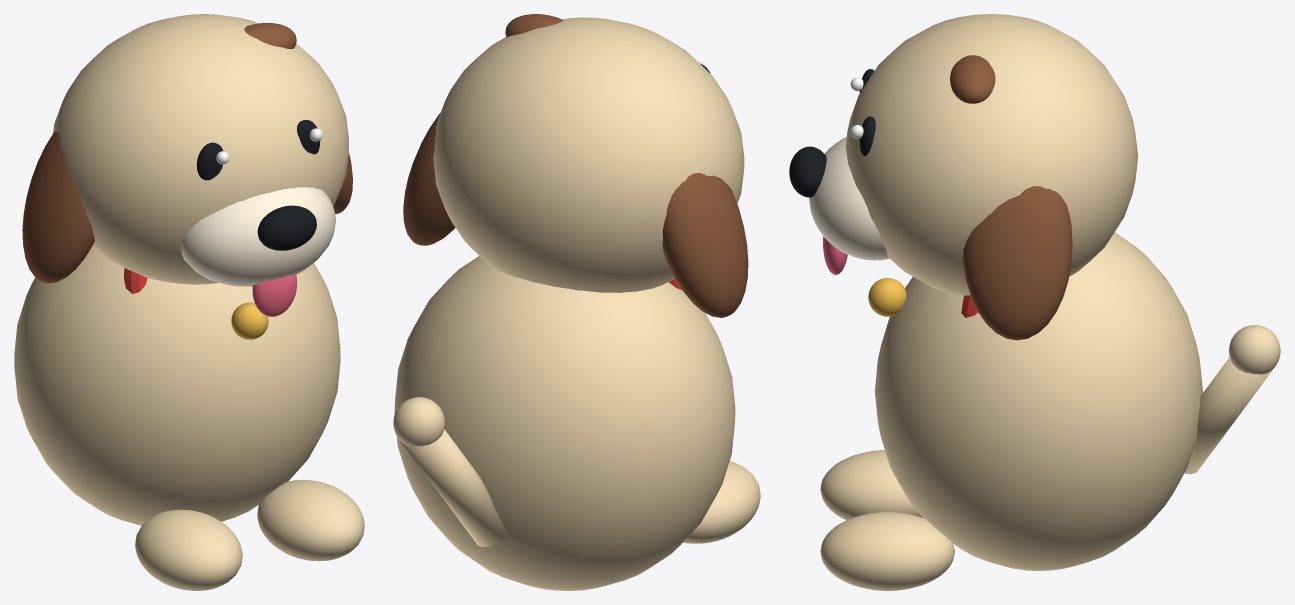
Rendered from perro.glb.
The picture shows the model from 3 angles, left to right: view 1: azimuth 30°, elevation 25°; view 2: azimuth 150°, elevation 25°; view 3: azimuth 270°, elevation 25°; orthographic projection. The views are drawn at different scales.
Visible parts, largest first — view 1: cabeza, Sphere, Sphere.001, Sphere.002, Sphere.003; view 2: Sphere, cabeza, cola, Sphere.001; view 3: Sphere, cabeza, Sphere.002, cola, Sphere.001, Sphere.003.
Part boxes in pixels (left/top/right/bottom): cabeza: left=22, top=14, right=352, bottom=316; Sphere: left=14, top=246, right=340, bottom=525; Sphere.001: left=135, top=509, right=242, bottom=590; Sphere.002: left=257, top=480, right=364, bottom=561; Sphere.003: left=231, top=302, right=268, bottom=339; Sphere: left=394, top=256, right=735, bottom=590; cabeza: left=403, top=14, right=748, bottom=317; cola: left=393, top=397, right=507, bottom=547; Sphere.001: left=683, top=461, right=760, bottom=543; Sphere: left=874, top=232, right=1202, bottom=570; cabeza: left=789, top=14, right=1138, bottom=340; Sphere.002: left=820, top=512, right=954, bottom=590; cola: left=1184, top=325, right=1280, bottom=474; Sphere.001: left=820, top=450, right=922, bottom=520; Sphere.003: left=868, top=278, right=906, bottom=316.
Bounding box in the file's own units: 0.8747 × 1.34 × 1.14.
